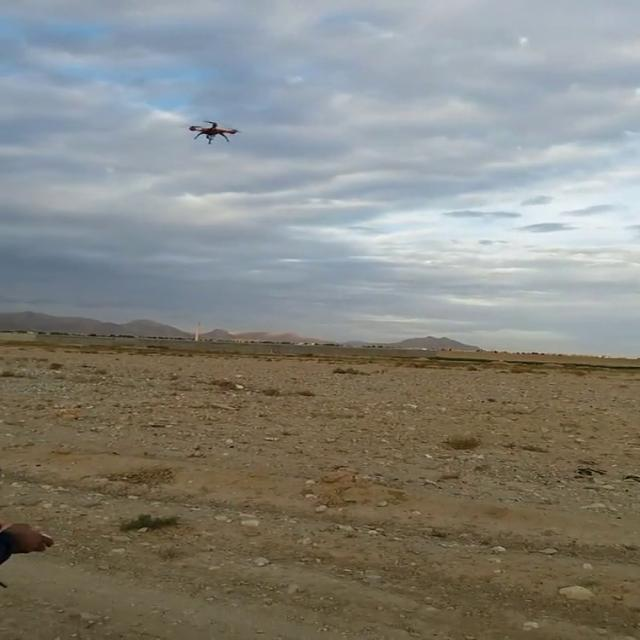drone: (187, 118, 242, 146)
